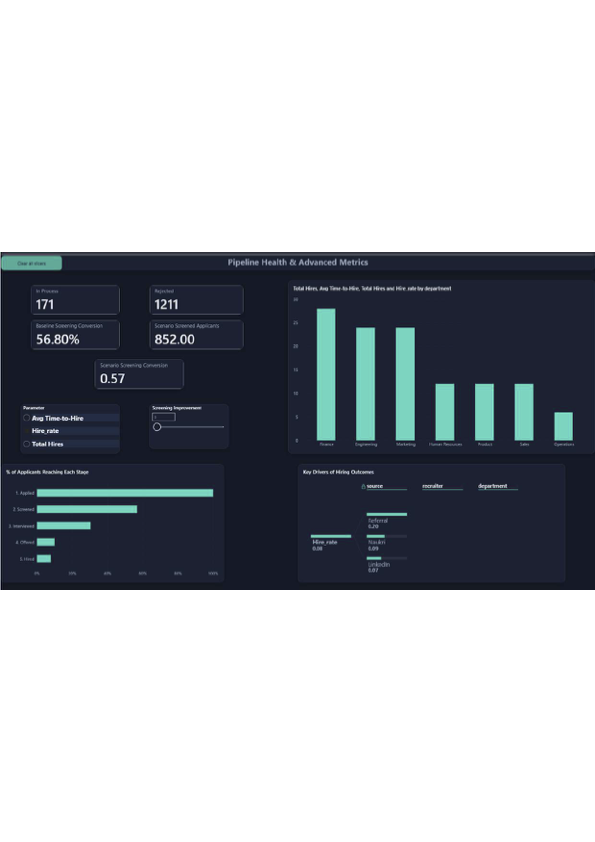

Layout of this report page (visuals, bound fields, positions):
{"tool":"powerbi","page":{"name":"Pipeline Health & Advanced Metrics","canvas":[1920,1080],"ordinal":3},"visuals":[{"type":"barChart","title":"% of Applicants Reaching Each Stage","fields":{"Category":["funnel_events.stage"],"Y":["Measure.Stage Conversion %"]},"box":[0,672,720,384],"z":0},{"type":"cardVisual","fields":{"Data":["Measure.In Process"]},"box":[96,96,288,96],"z":1000},{"type":"cardVisual","fields":{"Data":["Measure.Rejected"]},"box":[480,96,304,96],"z":2000},{"type":"slicer","fields":{"Values":["Parameter.Parameter"]},"box":[64,480,320,160],"z":3000},{"type":"decompositionTreeVisual","title":"Key Drivers of Hiring Outcomes","fields":{"Analyze":["Measure.Hire_rate"],"ExplainBy":["applicants.source","applicants.recruiter","applicants.department"]},"box":[960,672,864,384],"z":4000},{"type":"textbox","box":[0,0,1920,48],"z":5000},{"type":"slicer","fields":{"Values":["Screening Improvement.Screening Improvement"]},"box":[480,480,256,144],"z":8000},{"type":"cardVisual","fields":{"Data":["Measure.Scenario Screened Applicants"]},"box":[480,208,304,96],"z":9000},{"type":"cardVisual","fields":{"Data":["Measure.Baseline Screening Conversion"]},"box":[96,208,288,96],"z":10000},{"type":"cardVisual","fields":{"Data":["Measure.Scenario Screening Conversion"]},"box":[304,336,288,96],"z":11000},{"type":"clusteredColumnChart","fields":{"Category":["applicants.department Hierarchy.department"],"Y":["Measure.Total Hires"]},"box":[928,80,992,560],"z":12000},{"type":"actionButton","box":[0,0,200,50],"z":13000}]}

Visuals, with their boxes on the page's 1920x1080 design canvas (x1, y1, x2, y2). These are canvas units, not pixel positions in the 595x842 screenshot, which may show the page scaled, cropped or inside an application window:
"% of Applicants Reaching Each Stage" barChart: box(0, 672, 720, 1056)
cardVisual - Measure.In Process: box(96, 96, 384, 192)
cardVisual - Measure.Rejected: box(480, 96, 784, 192)
slicer - Parameter.Parameter: box(64, 480, 384, 640)
"Key Drivers of Hiring Outcomes" decompositionTreeVisual: box(960, 672, 1824, 1056)
textbox: box(0, 0, 1920, 48)
slicer - Screening Improvement.Screening Improvement: box(480, 480, 736, 624)
cardVisual - Measure.Scenario Screened Applicants: box(480, 208, 784, 304)
cardVisual - Measure.Baseline Screening Conversion: box(96, 208, 384, 304)
cardVisual - Measure.Scenario Screening Conversion: box(304, 336, 592, 432)
clusteredColumnChart - applicants.department Hierarchy.department x Measure.Total Hires: box(928, 80, 1920, 640)
actionButton: box(0, 0, 200, 50)
